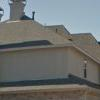Chimney: (5, 1, 36, 23)
